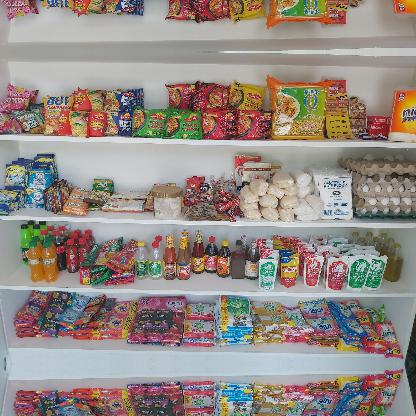Lady-s-Choice: (150, 185, 182, 219)
